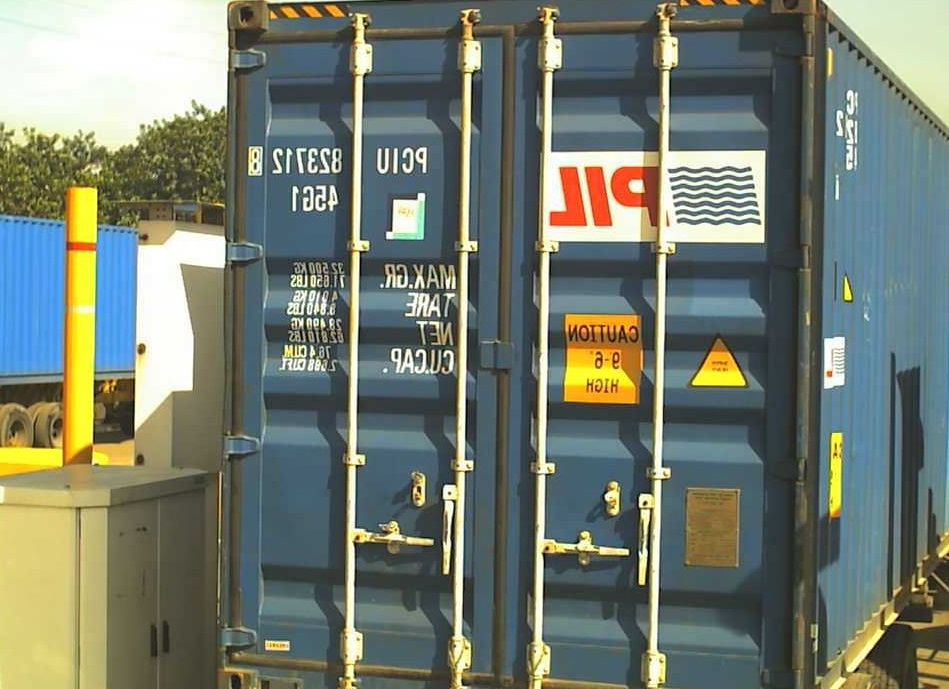container_door: (225, 3, 813, 689)
